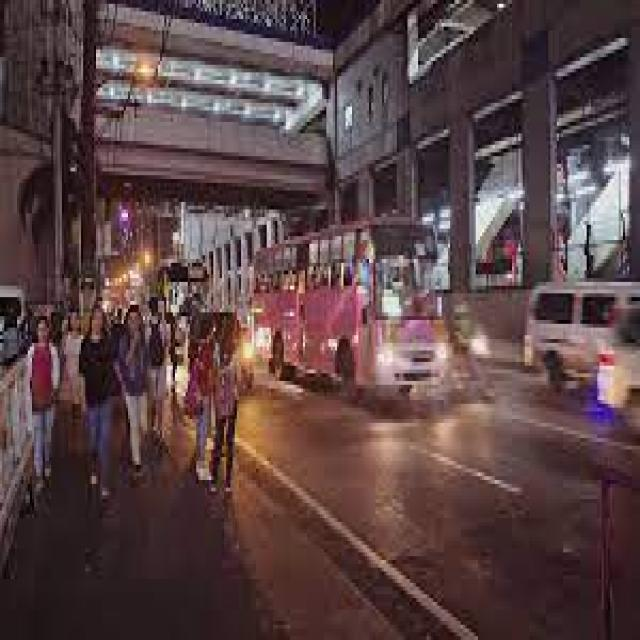bus: (231, 237, 409, 423)
person: (72, 332, 102, 544), (188, 340, 215, 539), (25, 344, 53, 535), (108, 332, 133, 519), (55, 336, 74, 494), (170, 373, 192, 498), (137, 324, 151, 486)
van: (481, 311, 585, 415)
